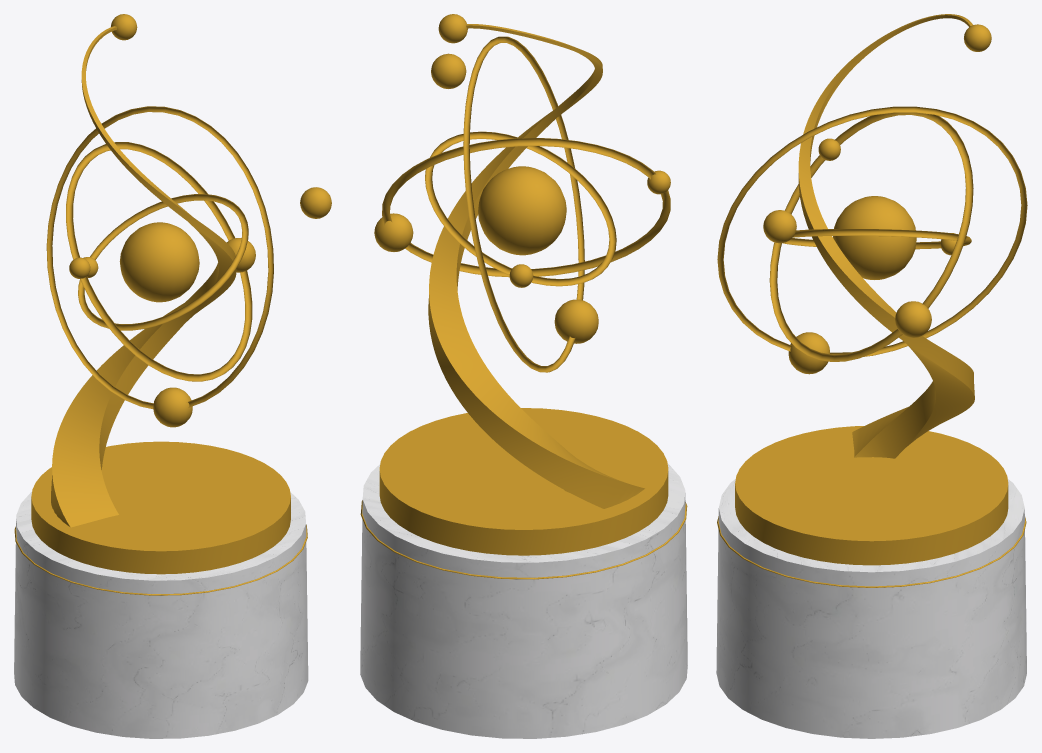
File: physics.glb
3 views of the same model, side by side, from view 1: azimuth 30°, elevation 25°; view 2: azimuth 150°, elevation 25°; view 3: azimuth 270°, elevation 25° (orthographic). The views are drawn at different scales.
Parts seen in each view (by area): view 1: marble_column, gold_cap, curved_pole, nucleus, orbit_b, orbit_c, orbit_a, electron_5, electron_3, gold_inlay_ring, tip_ball; view 2: marble_column, gold_cap, curved_pole, nucleus, orbit_c, orbit_b, orbit_a, electron_5, electron_4, electron_3, gold_inlay_ring, tip_ball; view 3: marble_column, gold_cap, curved_pole, orbit_b, nucleus, orbit_c, orbit_a, electron_5, electron_4, electron_3, gold_inlay_ring, tip_ball.
Boxes of the visible parts, x1,y1,x2,y2 form: marble_column: [14, 492, 308, 738]; gold_cap: [31, 441, 290, 574]; curved_pole: [51, 26, 236, 527]; nucleus: [119, 222, 199, 302]; orbit_b: [46, 106, 273, 408]; orbit_c: [66, 142, 252, 381]; orbit_a: [78, 194, 248, 330]; electron_5: [153, 387, 192, 427]; electron_3: [300, 187, 331, 218]; gold_inlay_ring: [14, 524, 307, 595]; tip_ball: [111, 14, 137, 40]; marble_column: [360, 464, 687, 738]; gold_cap: [379, 408, 668, 555]; curved_pole: [428, 24, 644, 508]; nucleus: [478, 166, 566, 255]; orbit_c: [382, 138, 670, 277]; orbit_b: [463, 36, 584, 372]; orbit_a: [425, 131, 616, 286]; electron_5: [554, 299, 598, 343]; electron_4: [374, 213, 413, 251]; electron_3: [431, 53, 466, 88]; gold_inlay_ring: [360, 500, 687, 579]; tip_ball: [438, 14, 467, 43]; marble_column: [716, 479, 1026, 738]; gold_cap: [735, 426, 1008, 565]; curved_pole: [798, 14, 974, 458]; orbit_b: [717, 106, 1027, 356]; nucleus: [833, 196, 916, 279]; orbit_c: [769, 112, 973, 361]; orbit_a: [782, 229, 971, 249]; electron_5: [788, 332, 829, 374]; electron_4: [895, 301, 931, 337]; electron_3: [763, 210, 796, 243]; gold_inlay_ring: [717, 516, 1026, 587]; tip_ball: [964, 24, 991, 51].
Size of the model in its own units: 0.4302 by 1 by 0.4308.
3 materials, 1 textured.
